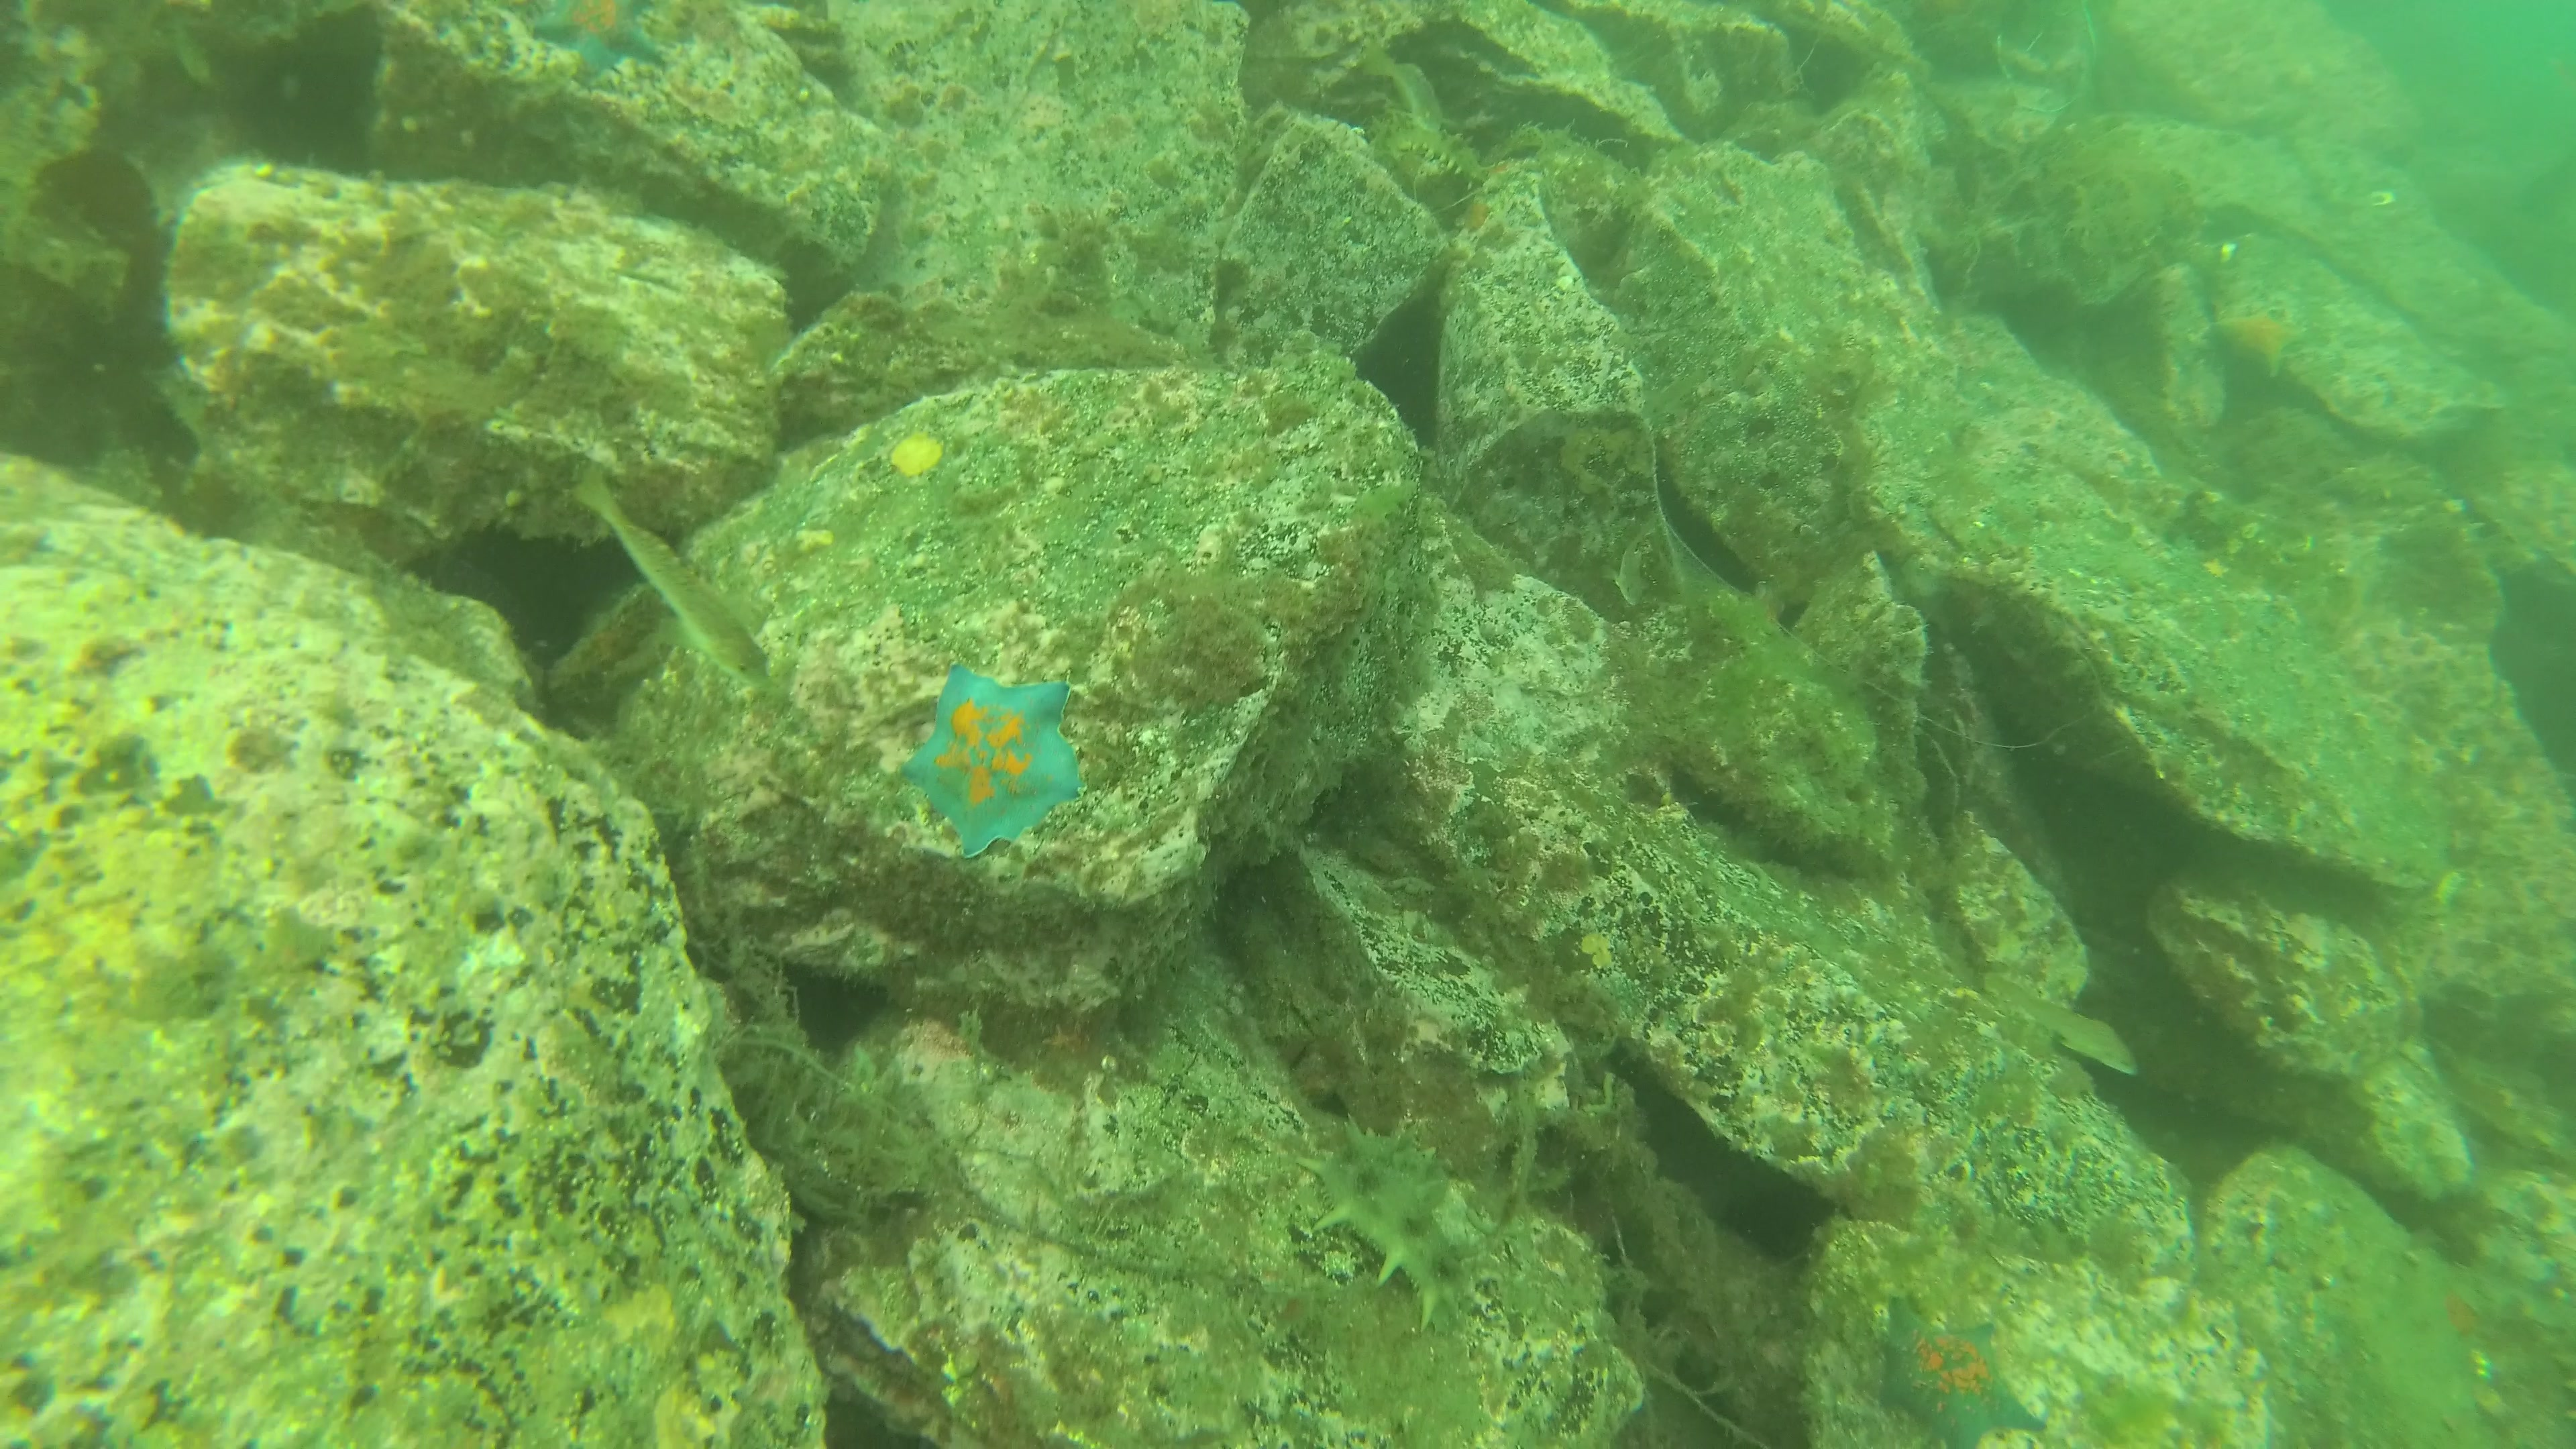holothurian: (1307, 1108, 1491, 1343), (1401, 129, 1493, 191)
starfish: (895, 658, 1077, 863), (1870, 1293, 2051, 1447), (522, 0, 686, 83), (2219, 287, 2293, 368)
